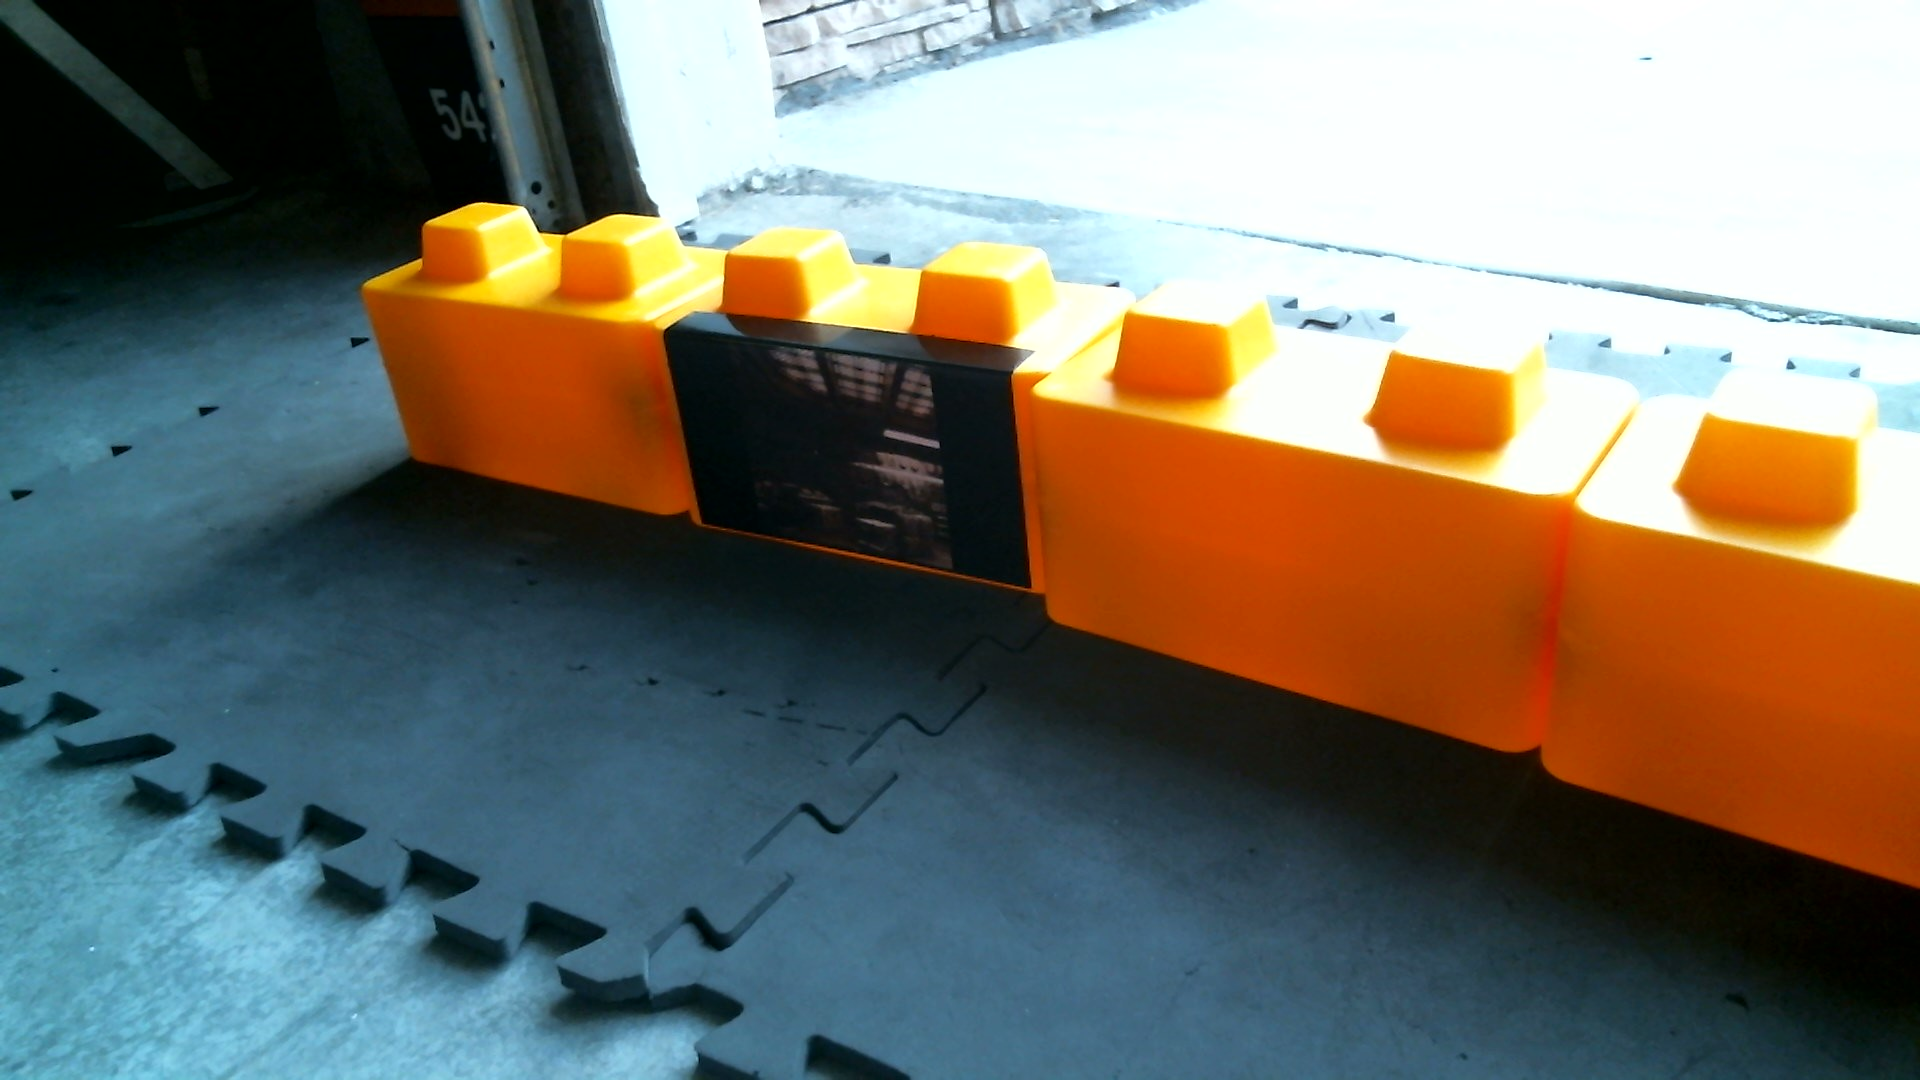center: (345, 177, 1648, 798)
